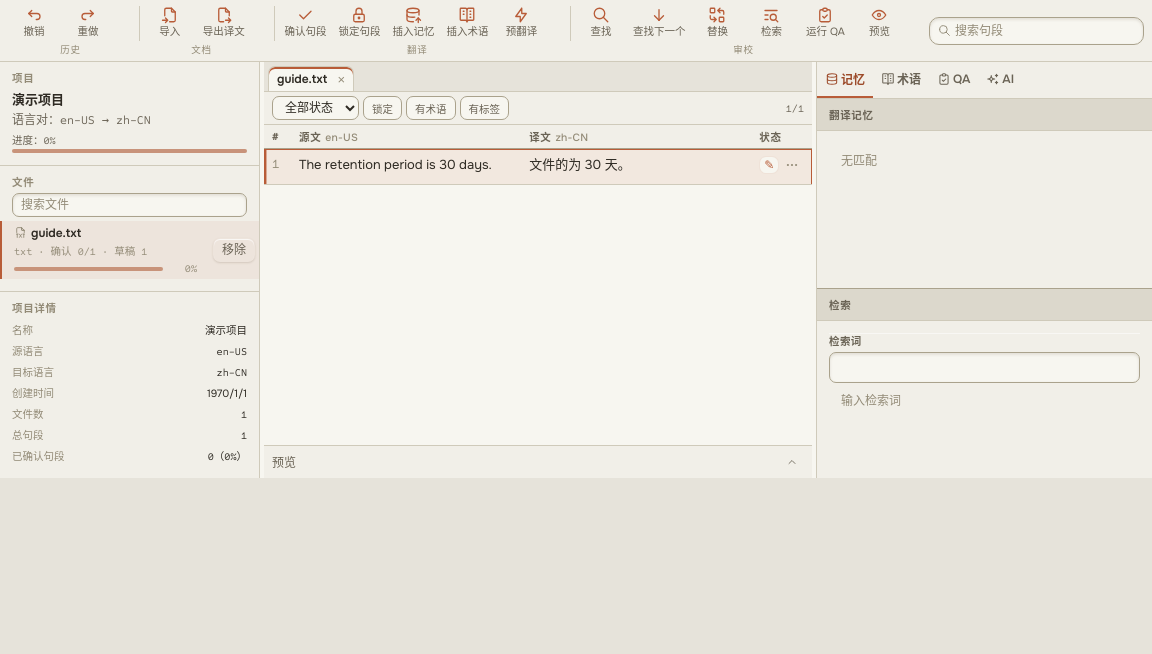
Test: WorkbenchView application menu commands › merges TM lookup and 检索 into the 记忆 dock, 辅助 and Agent into AI
Expected: the text box named "句段 1 译文" is shown, 529,155 -> 743,174
Expected: the button "记忆" is shown, 817,62 -> 873,98
# AI tab stacks 辅助 and Agent sections.
Click the button "AI" at [1000, 80], box 978,62 -> 1022,98
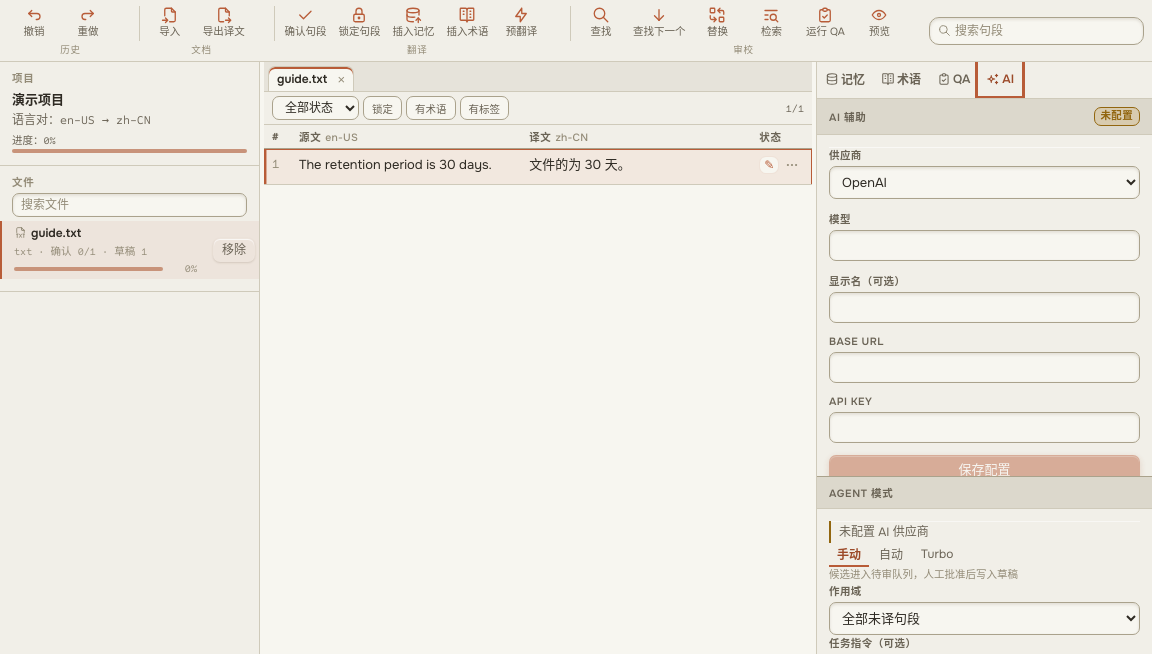
Expected: the heading "AI 辅助" is shown, 829,109 -> 866,124
Expected: the heading "Agent 模式" is shown, 829,485 -> 893,500
